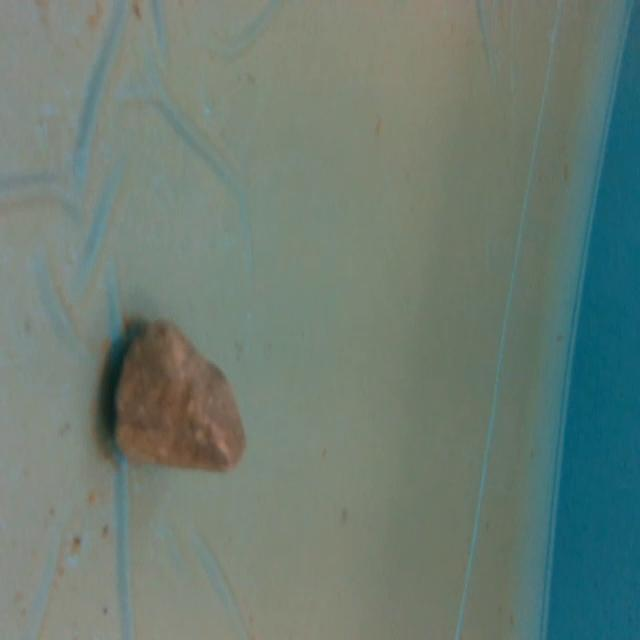rock: (107, 311, 253, 480)
